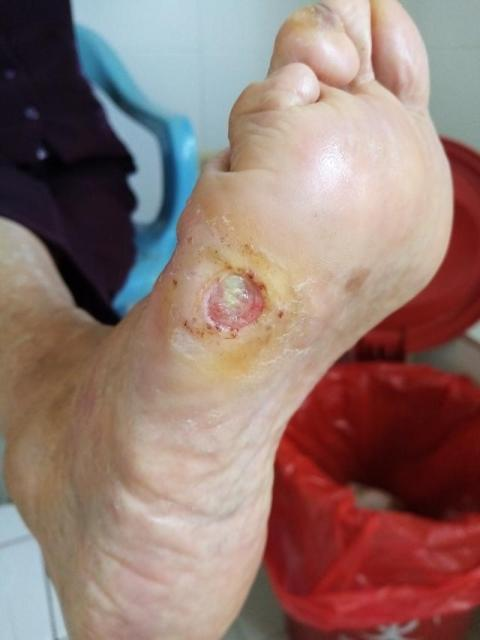wound: (197, 259, 281, 345)
